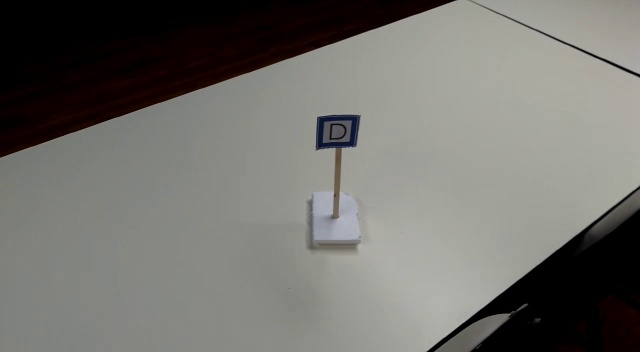durak: (315, 115, 360, 149)
